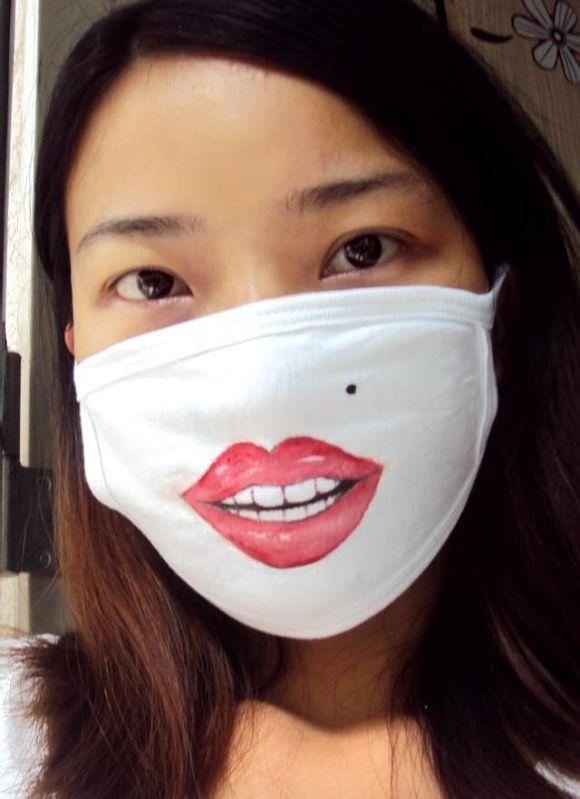OK: (65, 161, 506, 632)
